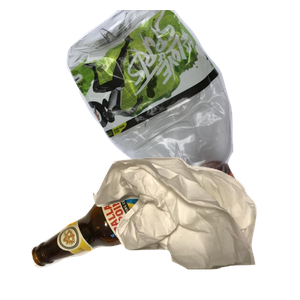glass: (29, 150, 238, 300)
metal: (77, 61, 222, 191)
plastic: (64, 10, 300, 190)
trash: (90, 155, 300, 300)
